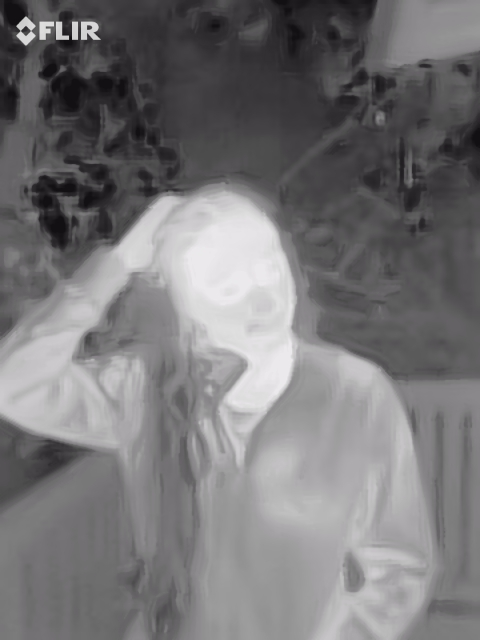head: (167, 188, 298, 351)
